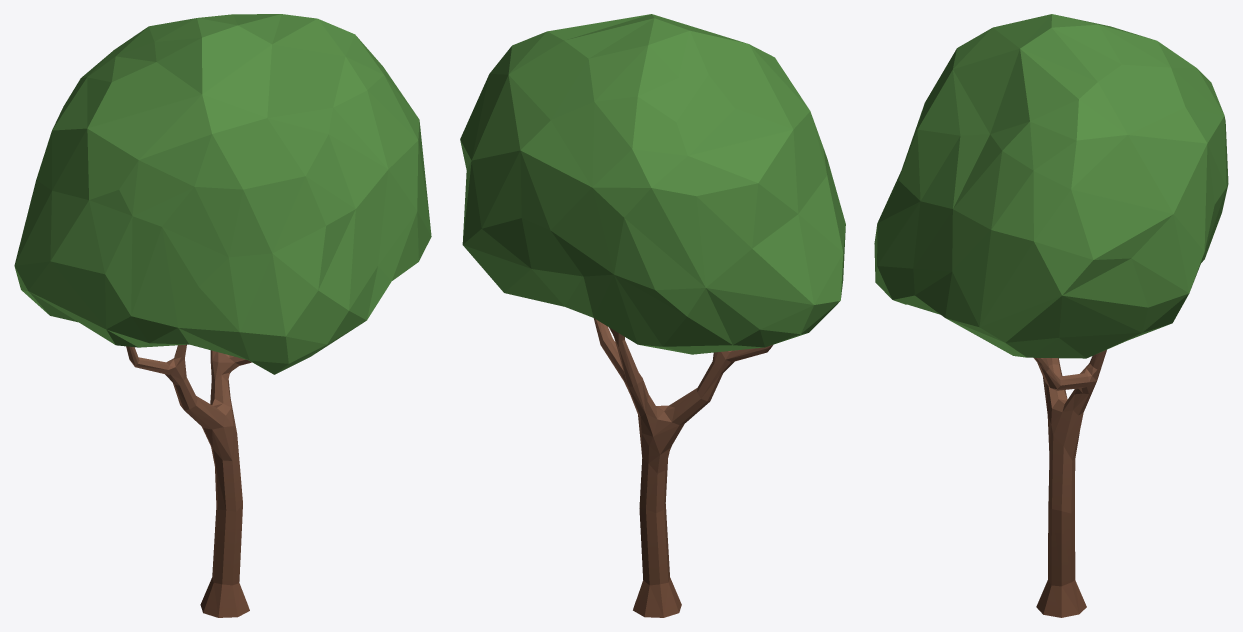
File: Tree_04.fbx
The picture shows the model from 3 angles, left to right: view 1: azimuth 30°, elevation 25°; view 2: azimuth 150°, elevation 25°; view 3: azimuth 270°, elevation 25°; orthographic projection.
Parts seen in each view (by area): view 1: Tree_04_LOD0; view 2: Tree_04_LOD0; view 3: Tree_04_LOD0.
Boxes of the visible parts, box(x1,y1,x2,y2) form: Tree_04_LOD0: box(14, 14, 431, 617); Tree_04_LOD0: box(460, 14, 845, 617); Tree_04_LOD0: box(874, 14, 1228, 617).
Size of what is drawn, in the model's own units: 548 by 805 by 443.
